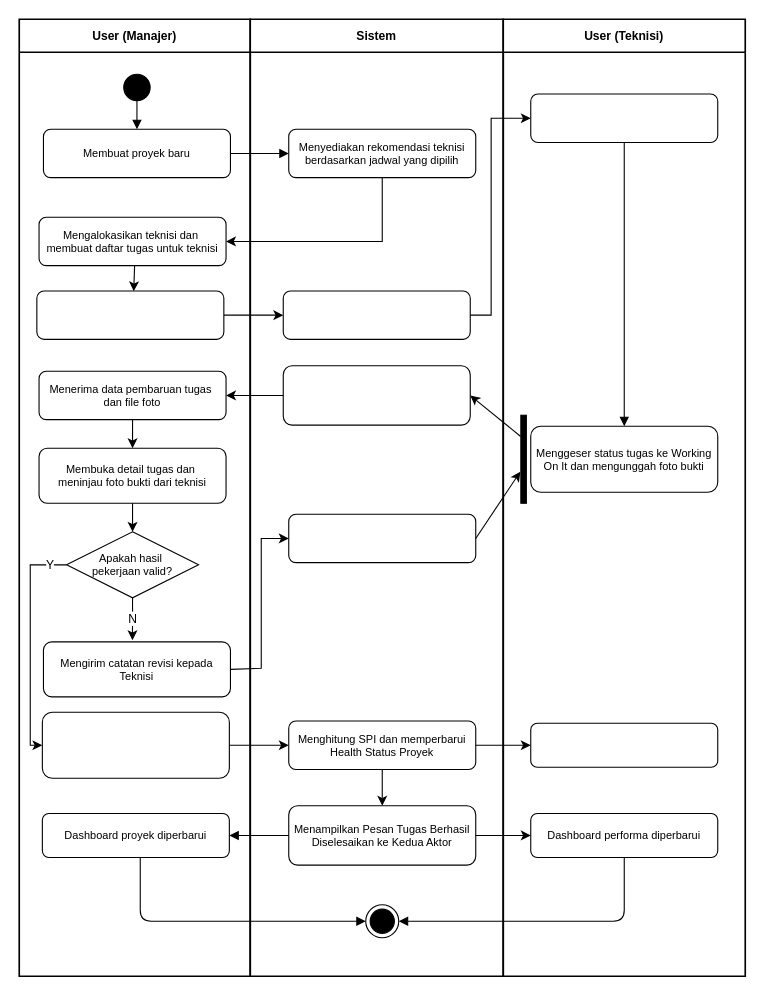
Some shapes in this 766 by 997 pixel diagram are drawn without their labels. The centre of each missing label's shape, as x and y in pixels:
"Melihat Tugas Selesai di Kanban" goes at (x=624, y=744).
"Membuka papan kanban proyek" goes at (x=624, y=117).
"Memunculkan notifikasi perlu direview di Dashboard Manajer" goes at (x=376, y=395).
"Meneruskan notifikasi revisi ke Teknisi" goes at (x=382, y=538).
"Menyetujui dan menggeser status tugas menjadi Done" goes at (x=135, y=744).
"Muncul notifikasi proyek baru" goes at (x=376, y=314).
"Simpan data proyek baru" goes at (x=130, y=314).
